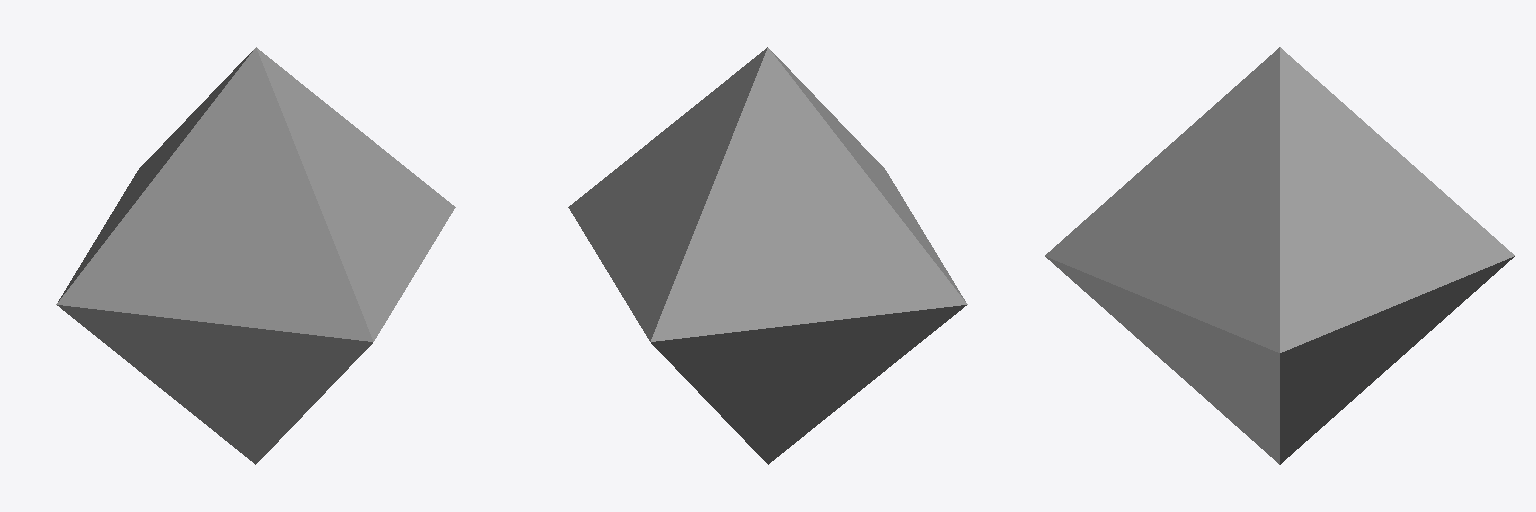
Rendered from diamond.obj.
3 renders of one model, left to right at view 1: azimuth 30°, elevation 25°; view 2: azimuth 150°, elevation 25°; view 3: azimuth 270°, elevation 25°, orthographic.
Parts seen in each view (by area): view 1: Cube.003; view 2: Cube.003; view 3: Cube.003.
Boxes of the visible parts, x1,y1,x2,y2 form: Cube.003: [56, 47, 455, 464]; Cube.003: [568, 47, 967, 464]; Cube.003: [1045, 47, 1514, 464].
Bounding box in the file's own units: 1.96 × 1.96 × 2.